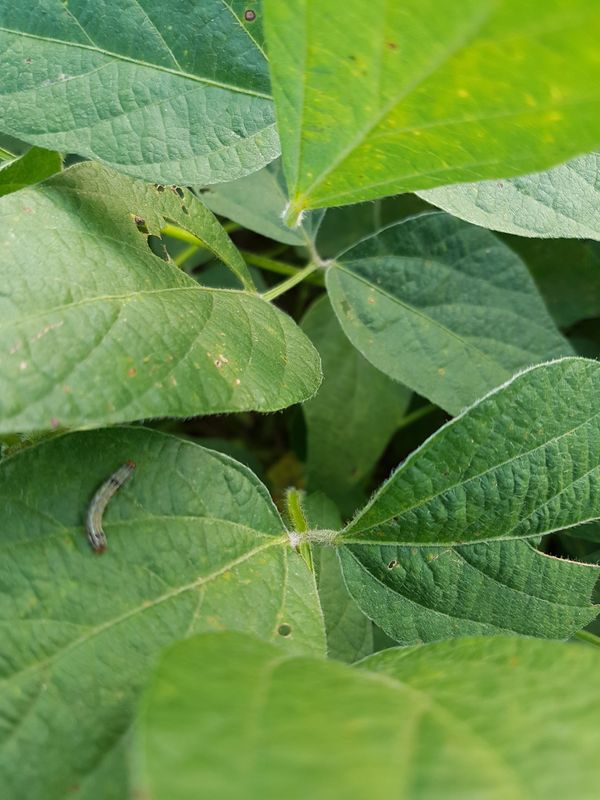Spodoptera_albula: (60, 447, 153, 566)
